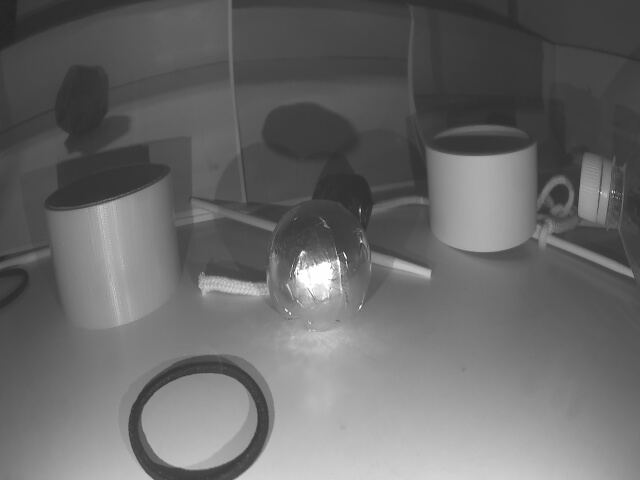Dead: (316, 175, 372, 226)
Live: (264, 203, 374, 335)
